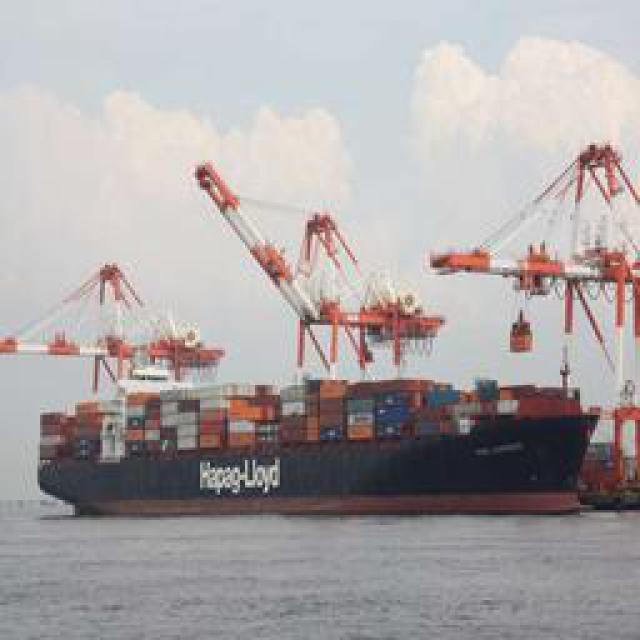Ship: (20, 141, 613, 516)
